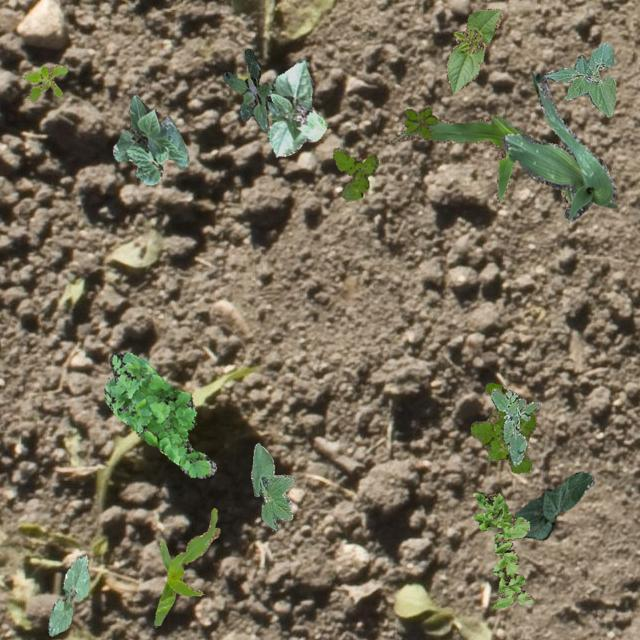crop: (388, 114, 570, 208), (501, 72, 616, 220), (154, 506, 218, 624), (111, 94, 188, 184), (266, 58, 326, 156), (542, 40, 614, 116), (512, 471, 592, 538), (446, 8, 502, 92), (250, 442, 294, 530), (48, 554, 90, 634)
weed: (104, 352, 215, 478), (472, 490, 532, 608), (470, 382, 534, 472), (222, 48, 278, 130), (490, 386, 540, 466), (332, 146, 378, 198), (22, 64, 66, 100), (404, 105, 436, 138)
